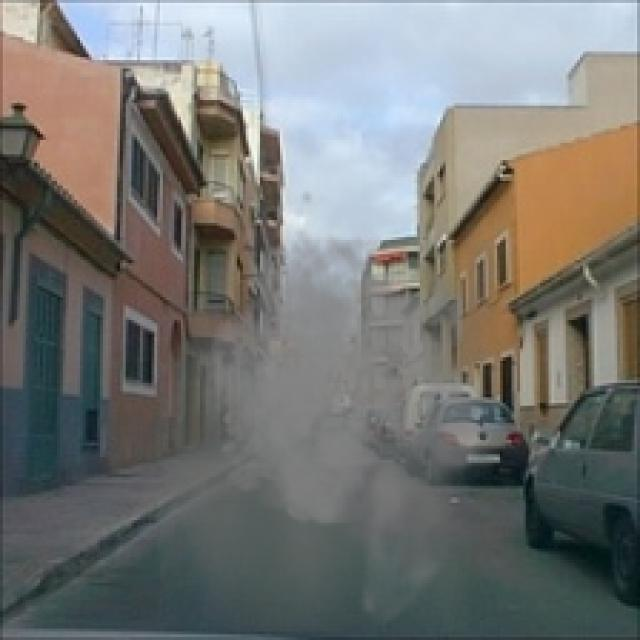Smoke: (155, 226, 500, 632)
